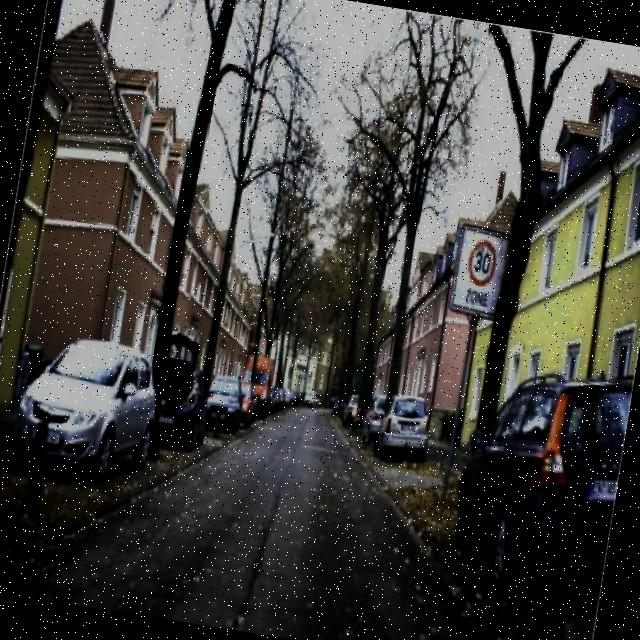Ograniczenie predkosci do 30: (462, 234, 504, 294)
